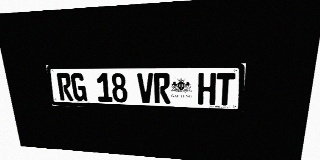1: (96, 73, 113, 102)
8: (111, 73, 128, 102)
G: (70, 73, 87, 101)
H: (198, 73, 216, 105)
R: (154, 73, 170, 104), (56, 73, 73, 101)
T: (216, 73, 235, 106)
V: (137, 73, 154, 103)
